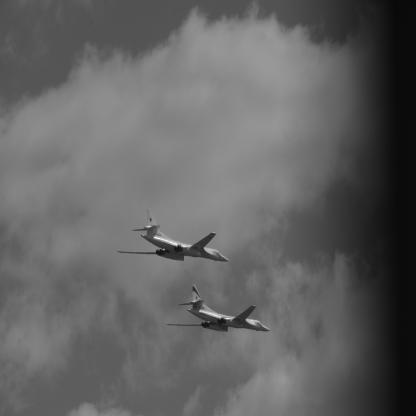Tu160: (117, 210, 231, 263), (166, 285, 272, 332)
